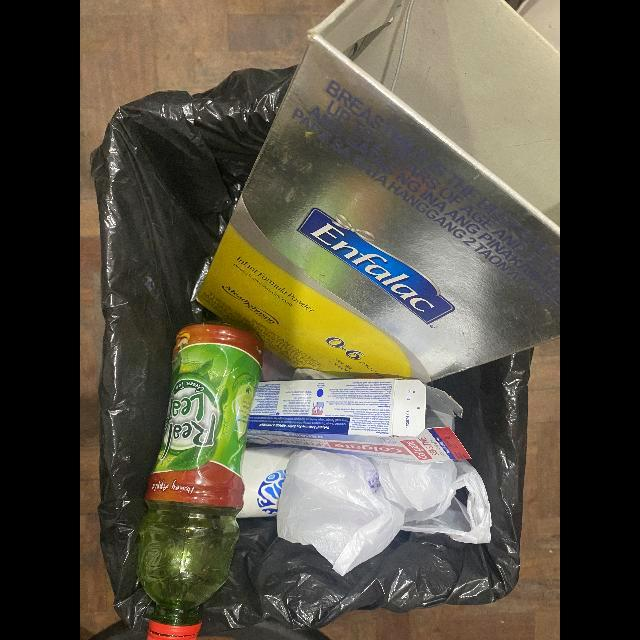cardboard: (196, 0, 560, 383), (247, 378, 473, 463)
plastic_bag: (277, 450, 492, 577)
plastic_bottle: (137, 324, 264, 640), (236, 443, 299, 518)
